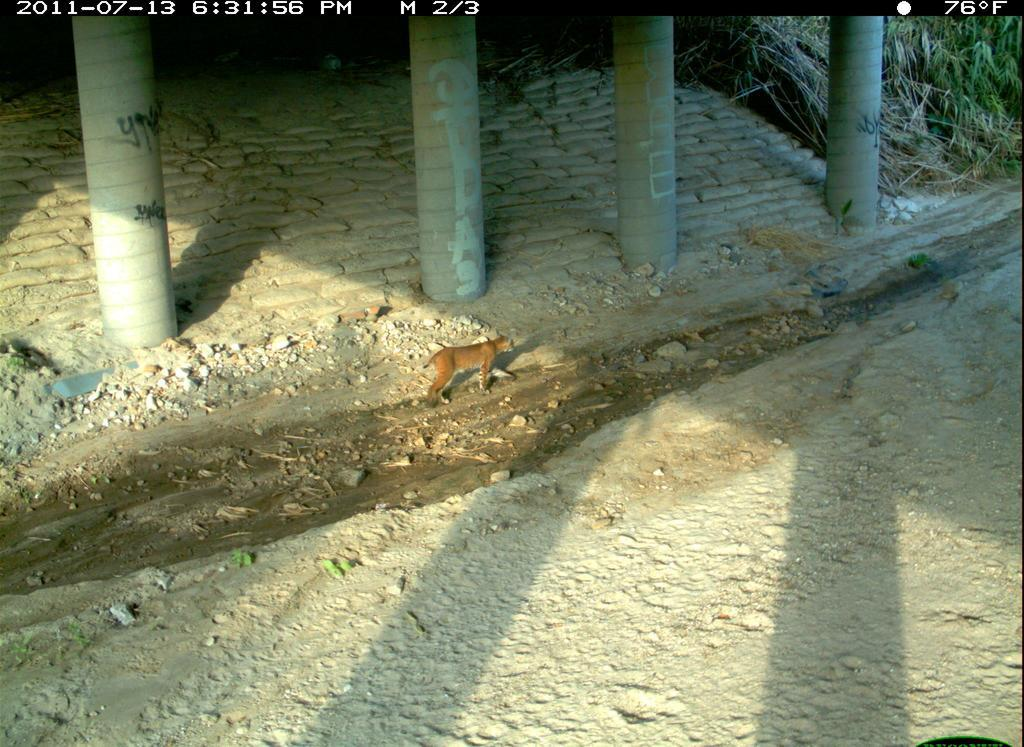bobcat: (834, 651, 1024, 747)
